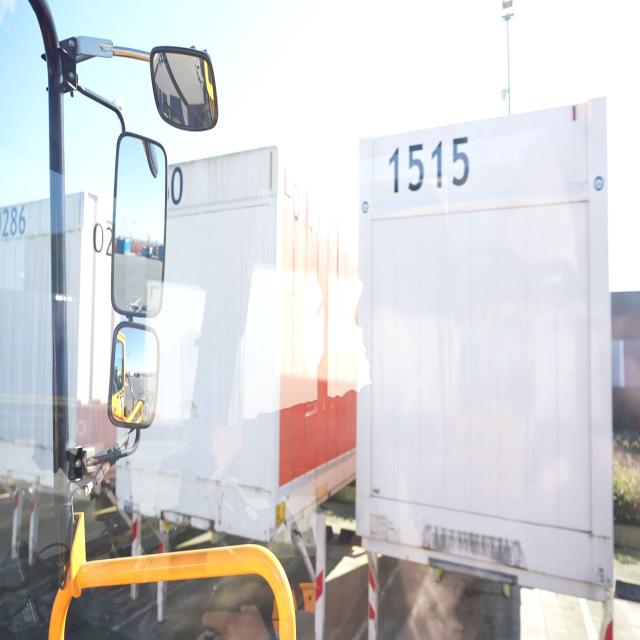Code: (389, 126, 472, 196)
